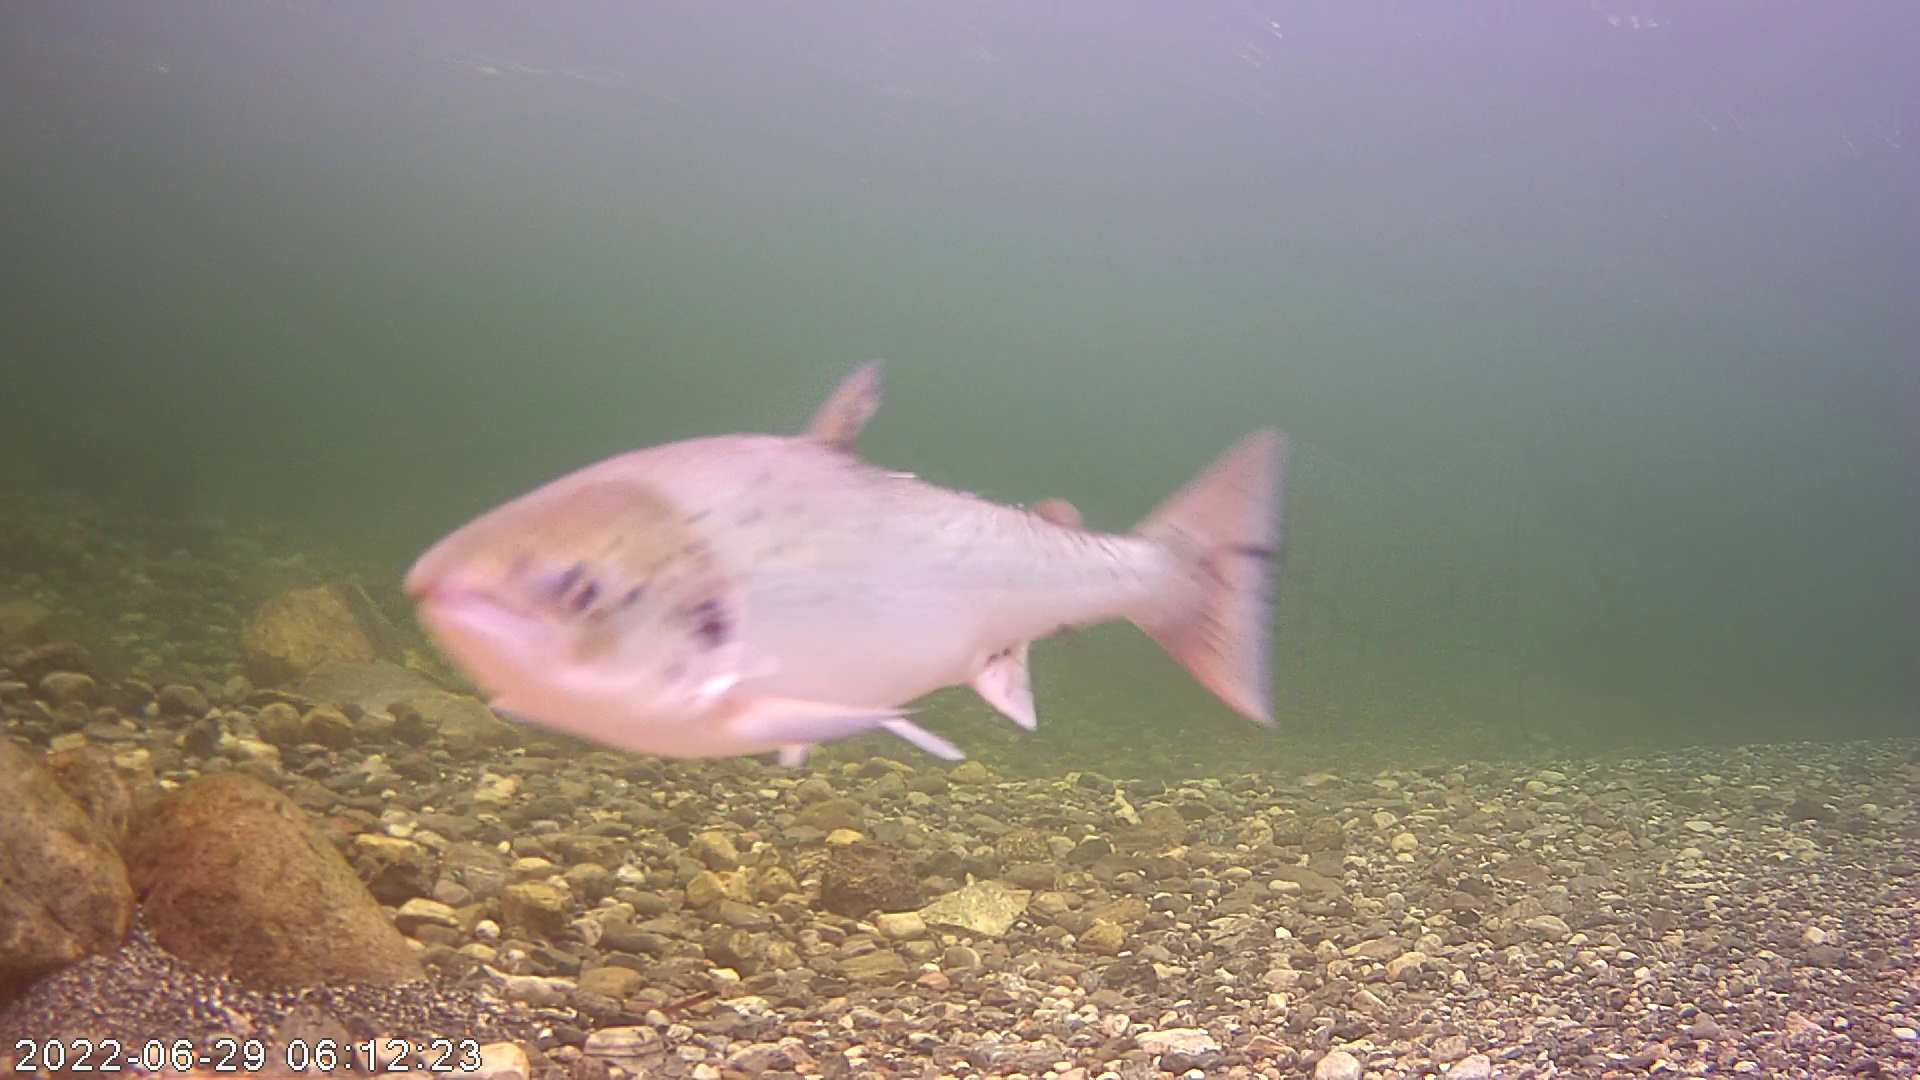salmon: (382, 331, 1304, 796)
